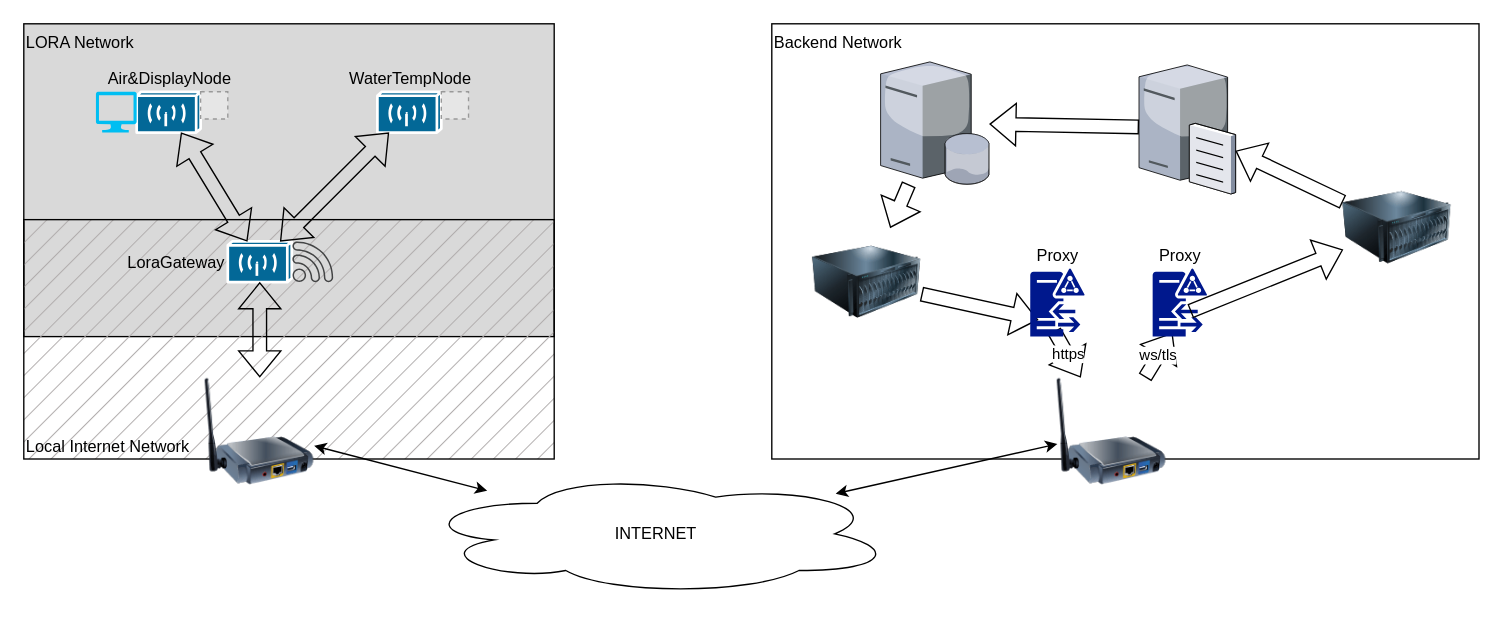
Some shapes in this 1503 by 619 pixel diagram are drawn without their labels. Grey dashed boxes stand in for pictures. Here are the shapes that lost their labels. From the top down, the centre of each, then its label:
At point (934, 122): "InfluxDB".
At point (1186, 127): "NodeRed".
At point (1396, 227): "MQTT Broker".
At point (866, 281): "SummerTime".
